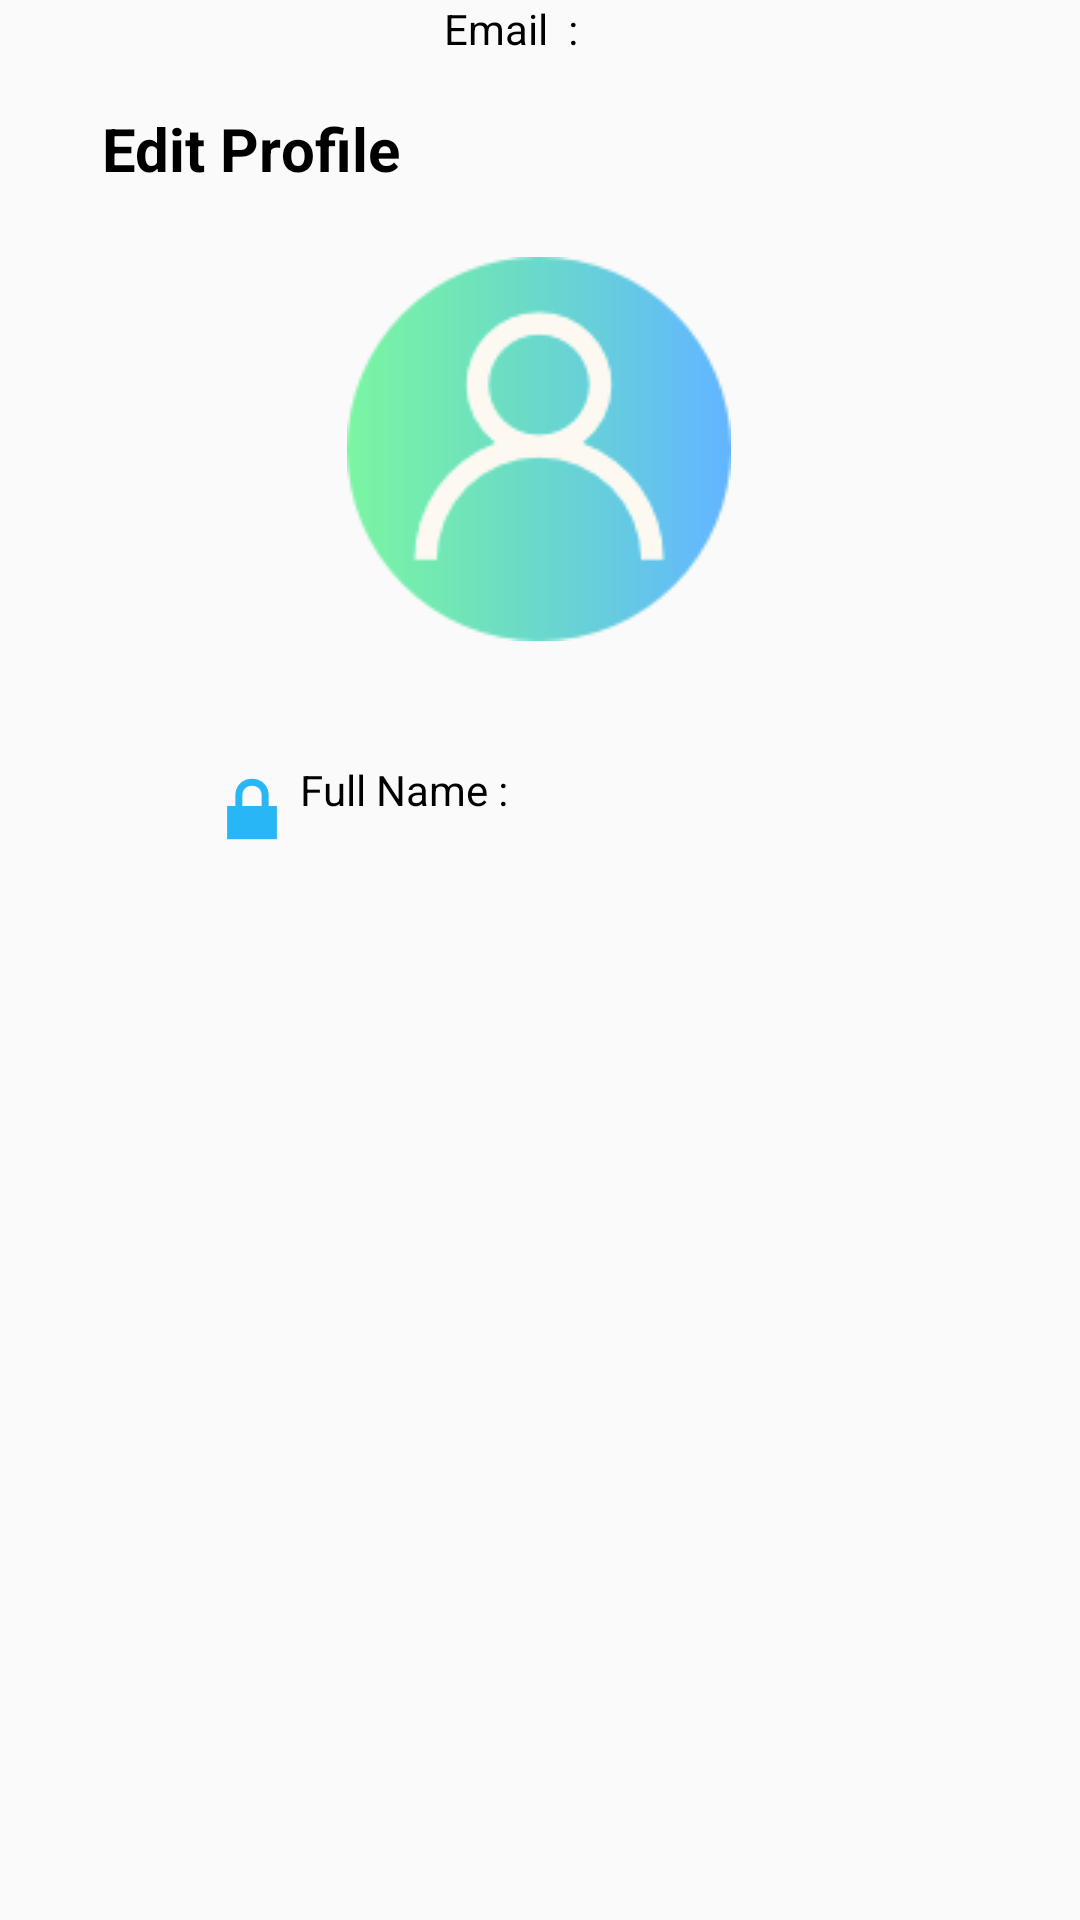

Locate icon controls on the screen. Image size 1080w x 1920h, boxes as region(x1, y1, x2, y2).
lock: region(227, 778, 277, 840)
